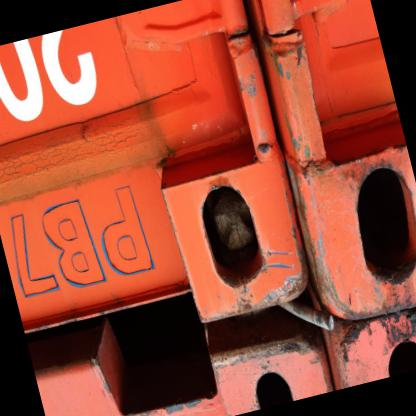CornerCasting: (149, 131, 323, 338), (287, 129, 415, 333), (203, 315, 339, 415), (324, 290, 415, 389)
